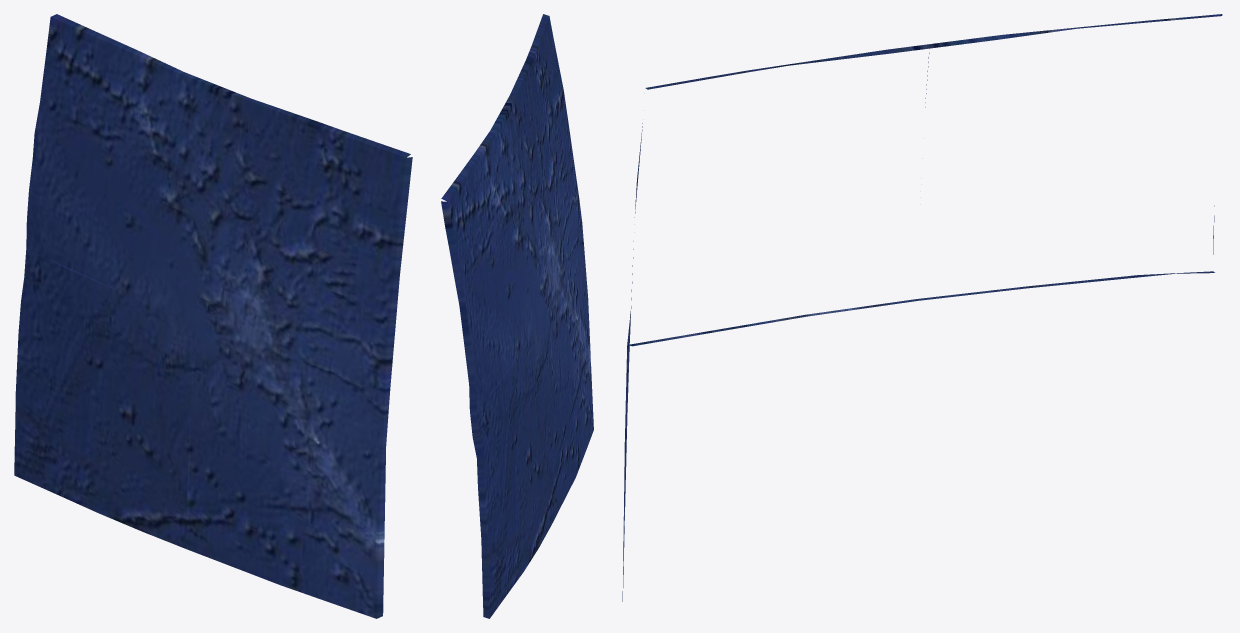
3 renders of one model, left to right at view 1: azimuth 30°, elevation 25°; view 2: azimuth 150°, elevation 25°; view 3: azimuth 270°, elevation 25°, orthographic. The views are drawn at different scales.
Bounding box in the file's own units: 496233 × 1253374 × 1233406.
1 material, 1 textured.
